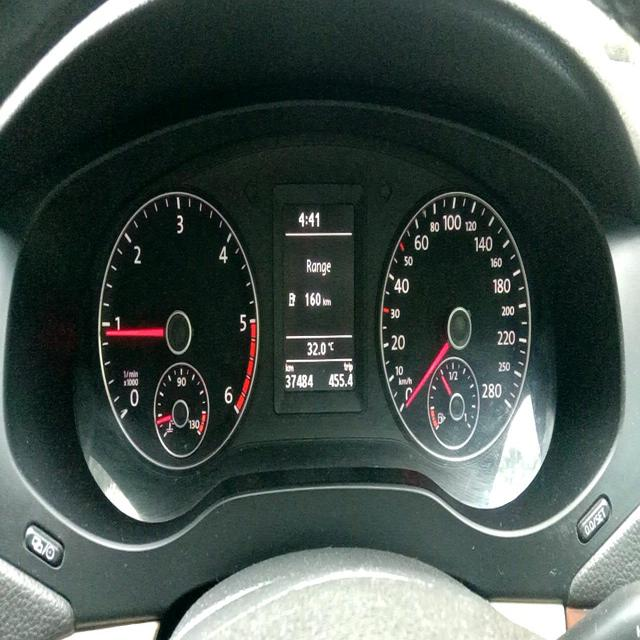odometer: (283, 370, 316, 391)
